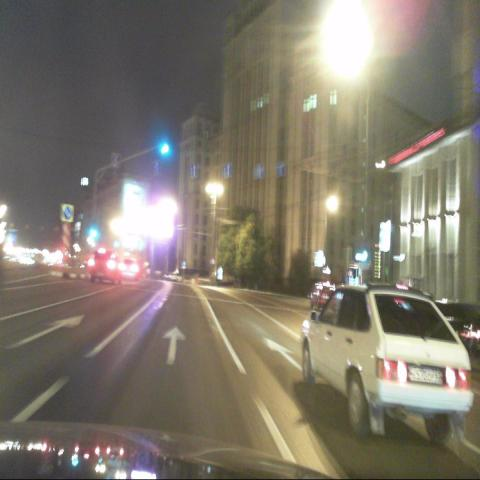4_2_1: (61, 204, 73, 223)
5_15_2: (276, 161, 285, 178), (223, 164, 232, 180), (190, 163, 198, 179), (154, 160, 162, 175)
